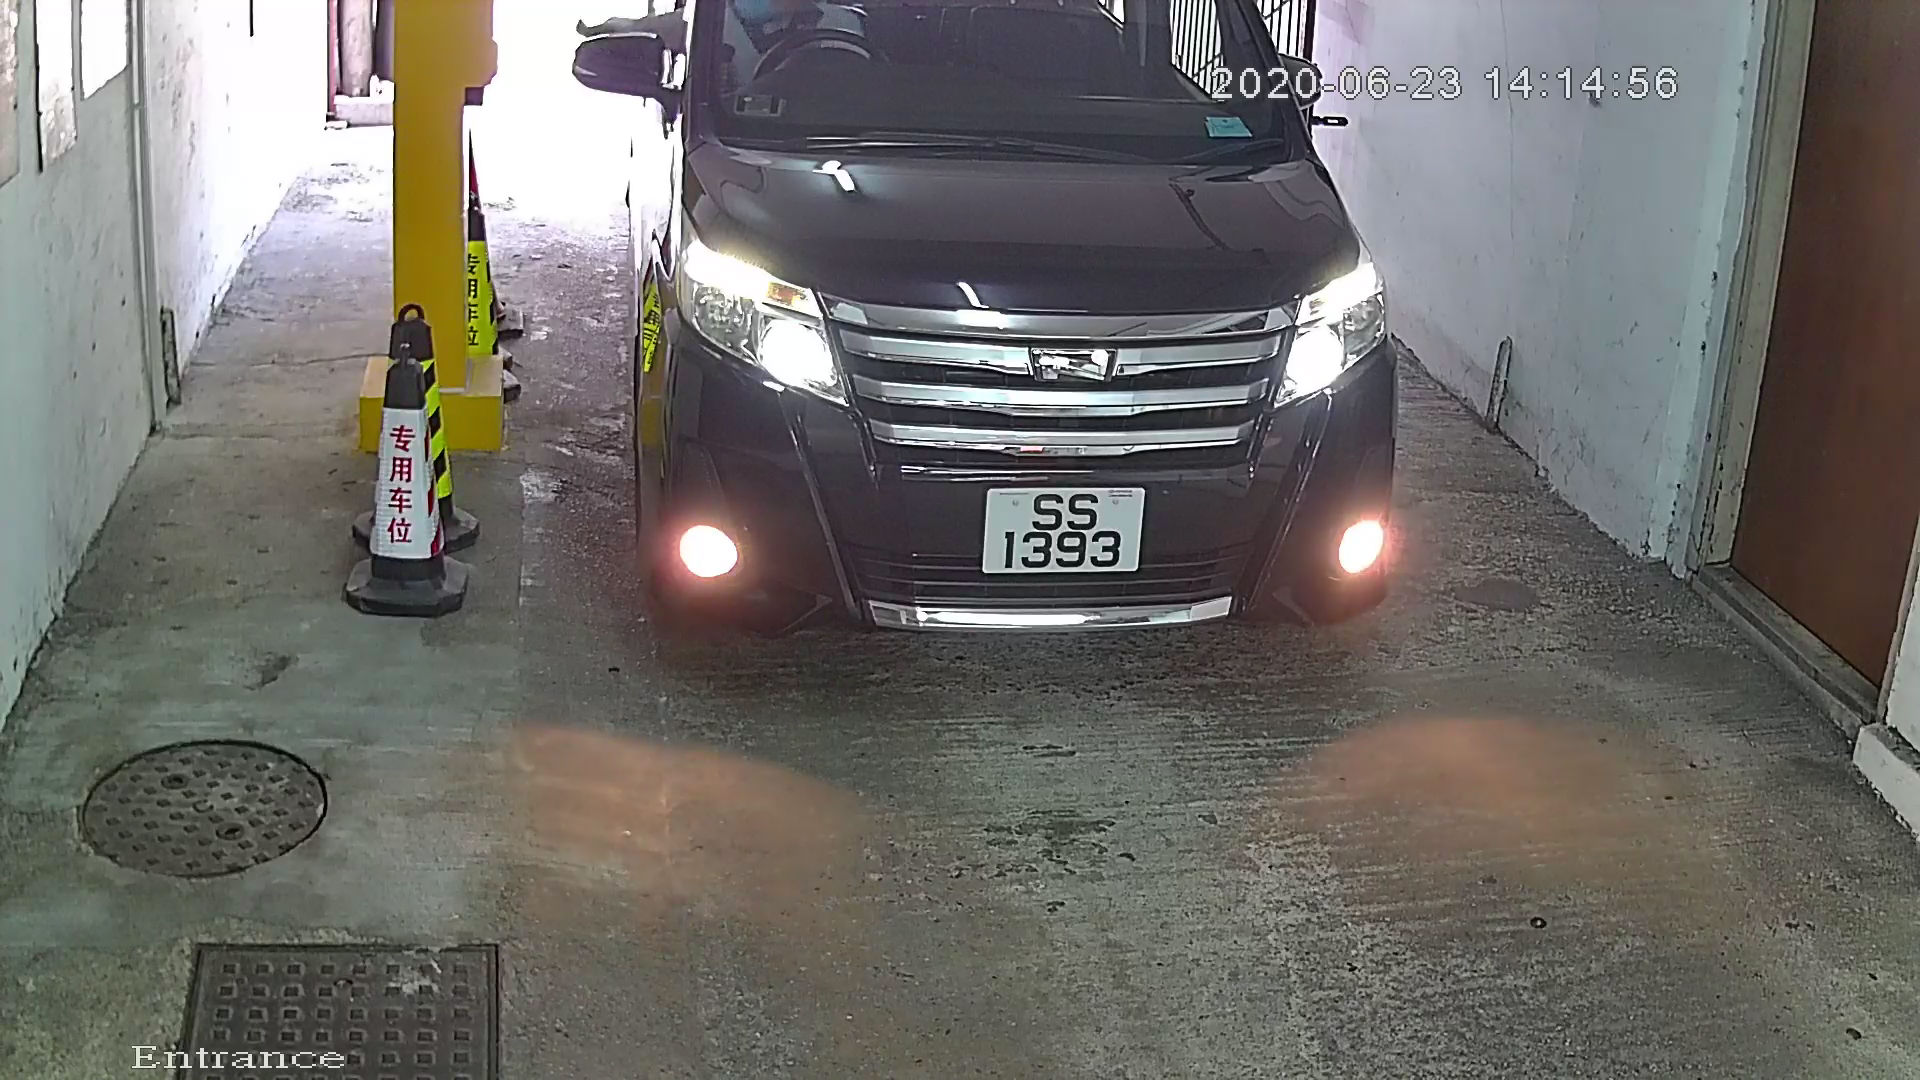privatecar: (566, 3, 1424, 686)
